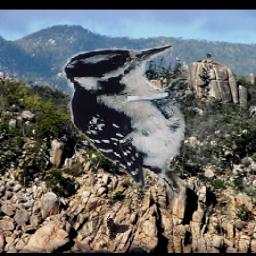Crow: (106, 214, 132, 242)
Woodpecker: (63, 46, 195, 199)
